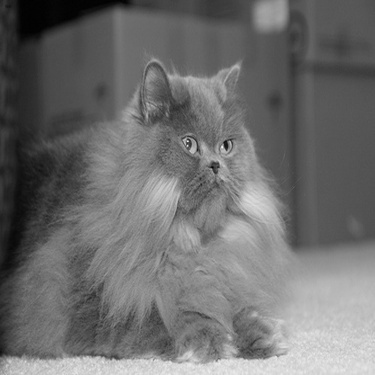cat: (8, 54, 290, 361)
